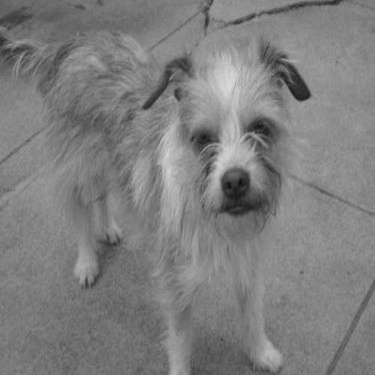dog: (2, 15, 315, 373)
